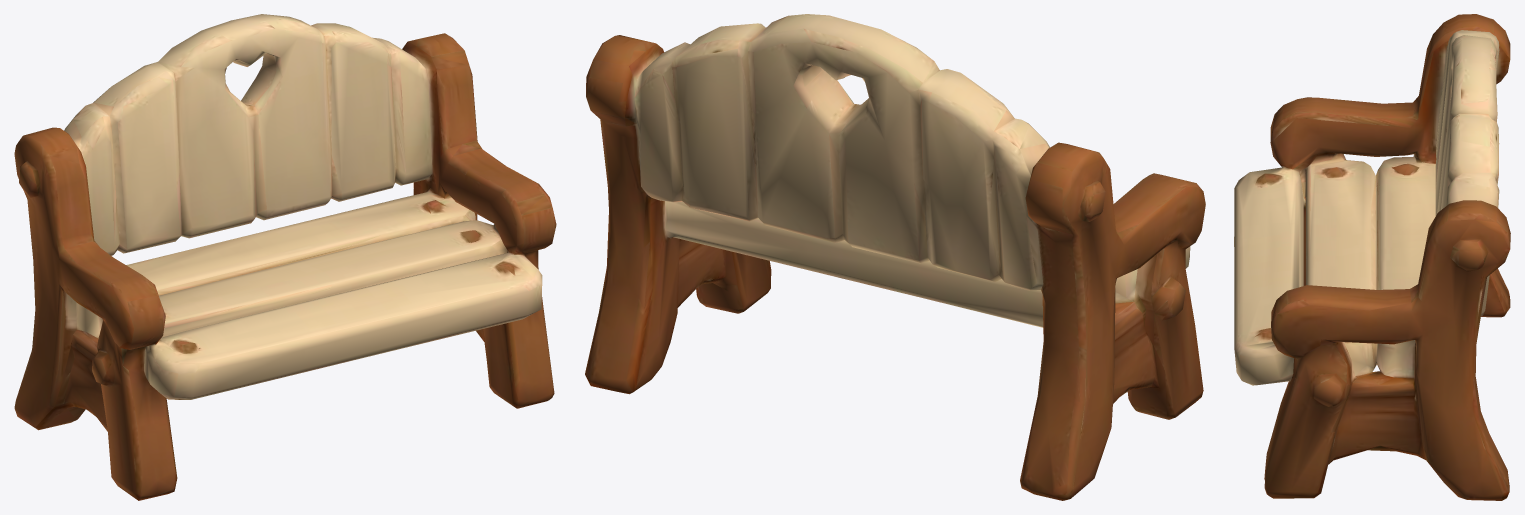
The picture shows the model from 3 angles, left to right: view 1: azimuth 30°, elevation 25°; view 2: azimuth 150°, elevation 25°; view 3: azimuth 270°, elevation 25°; orthographic projection. The views are drawn at different scales.
Parts seen in each view (by area): view 1: bench; view 2: bench; view 3: bench.
Boxes of the visible parts, x1,y1,x2,y2 form: bench: (14,14,556,500); bench: (585,14,1205,500); bench: (1234,14,1510,500).
Size of the model in its own units: 1.4 by 1.08 by 0.7749.
1 material, 1 textured.
